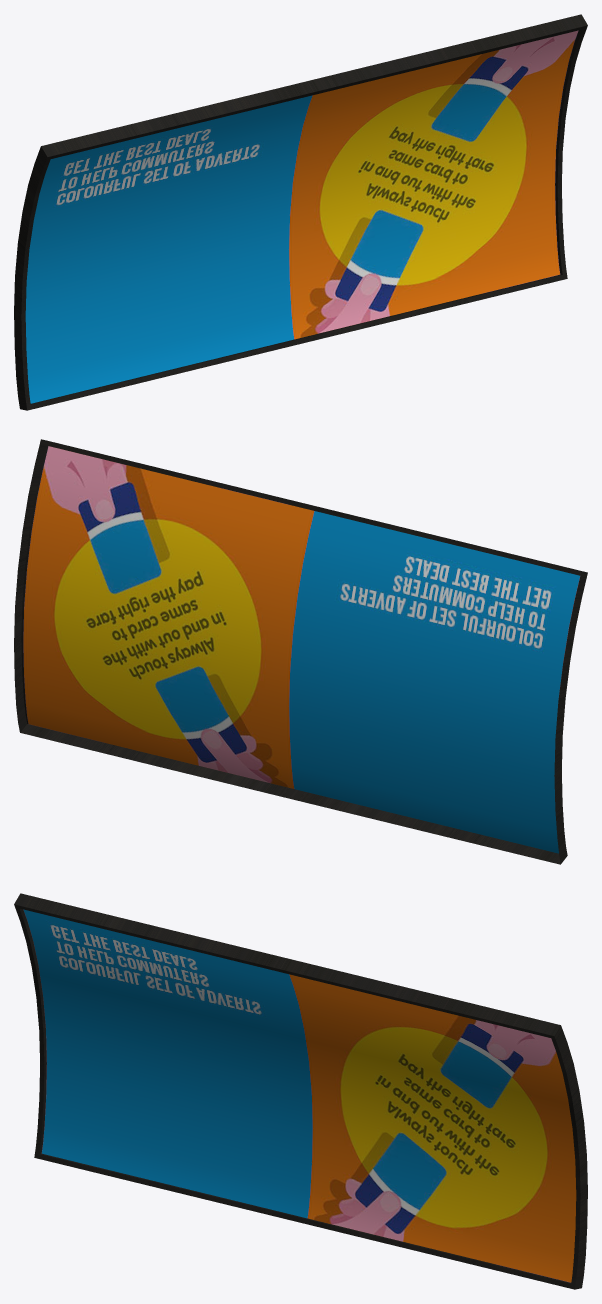
Rendered from touch_in.obj.
3 views of the same model, one above another, from view 1: azimuth 30°, elevation 25°; view 2: azimuth 150°, elevation 25°; view 3: azimuth 330°, elevation 25° (orthographic).
Visible parts, largest first — view 1: poster_ad.001; view 2: poster_ad.001; view 3: poster_ad.001.
Part boxes in pixels (x1,y1,x2,y2): poster_ad.001: (14, 14, 587, 410); poster_ad.001: (14, 439, 587, 864); poster_ad.001: (14, 893, 587, 1289).
Bounding box in the file's own units: 6.33 × 3.11 × 0.6797.
2 materials, 2 textured.
